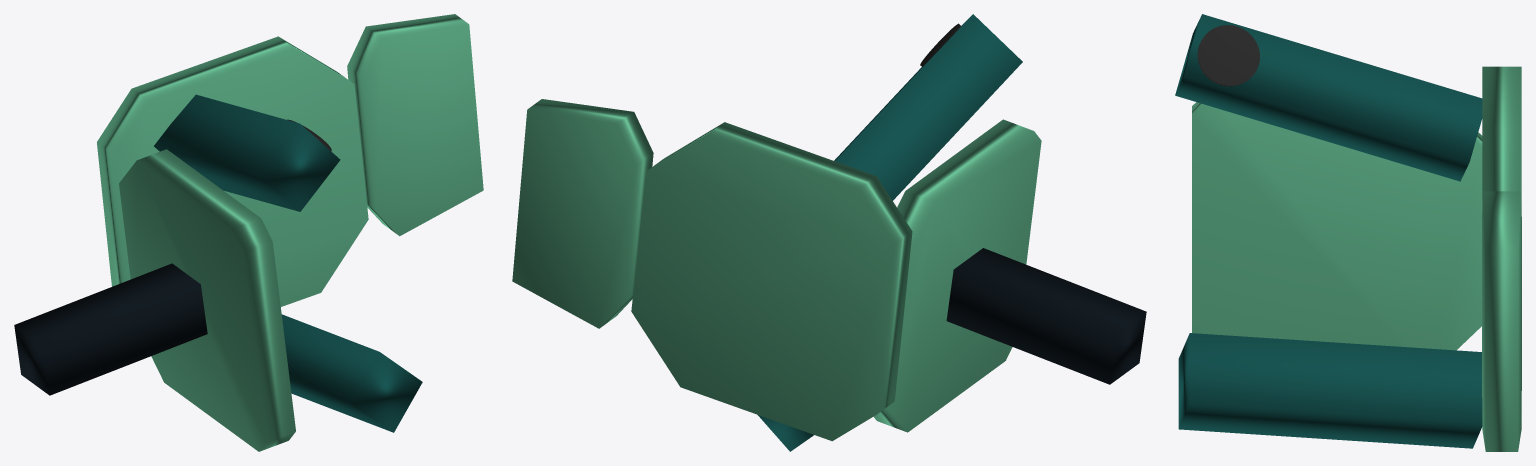
Rendered from spaceship chair.fbx.
The picture shows the model from 3 angles, left to right: view 1: azimuth 30°, elevation 25°; view 2: azimuth 150°, elevation 25°; view 3: azimuth 270°, elevation 25°; orthographic projection. The views are drawn at different scales.
Parts seen in each view (by area): view 1: Cube.003, Cube.002, Cube.001, Cube.006, Cube.004, Cube.005; view 2: Cube.002, Cube.003, Cube.001, Cube.006, Cube.004, Cube.005; view 3: Cube.003, Cube.005, Cube.004, Cube.001, Cube.002, Cylinder.002.
Boxes of the visible parts, x1,y1,x2,y2 form: Cube.003: (119,149,295,451); Cube.002: (97,36,368,306); Cube.001: (347,14,483,236); Cube.006: (14,263,207,395); Cube.004: (154,94,340,211); Cube.005: (281,314,422,432); Cube.002: (631,122,912,441); Cube.003: (873,119,1041,432); Cube.001: (512,99,653,328); Cube.006: (946,248,1146,384); Cube.004: (834,14,1022,200); Cube.005: (758,415,813,451); Cube.003: (1192,102,1482,350); Cube.005: (1178,333,1482,448); Cube.004: (1175,14,1482,181); Cube.001: (1482,191,1521,451); Cube.002: (1482,66,1521,429); Cylinder.002: (1197,25,1259,86).
Bounding box in the file's own units: 194 × 125 × 98.05.
